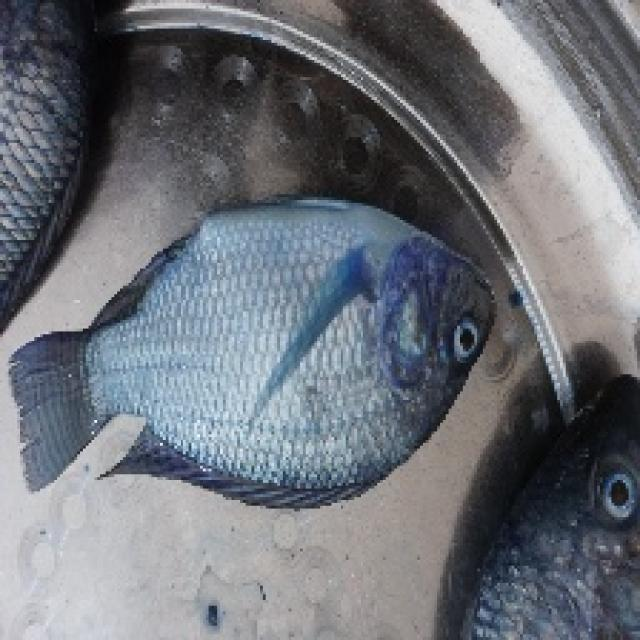Fresh: (0, 188, 560, 526), (591, 446, 640, 542)
